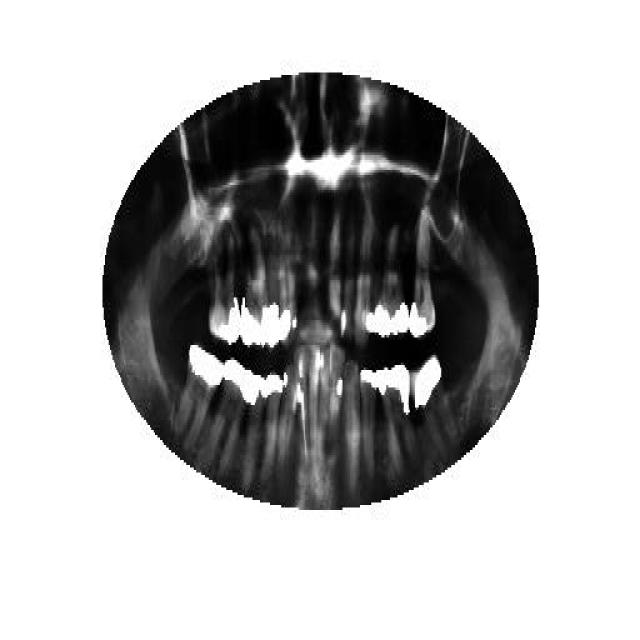Fillings: (206, 355, 258, 473), (410, 353, 456, 455), (376, 362, 416, 472), (178, 342, 222, 442), (374, 225, 410, 340), (208, 233, 242, 345), (409, 208, 436, 340), (242, 222, 266, 350), (244, 372, 268, 482), (276, 230, 296, 348), (354, 222, 374, 340), (262, 370, 282, 475), (360, 368, 378, 472), (266, 222, 279, 350)
